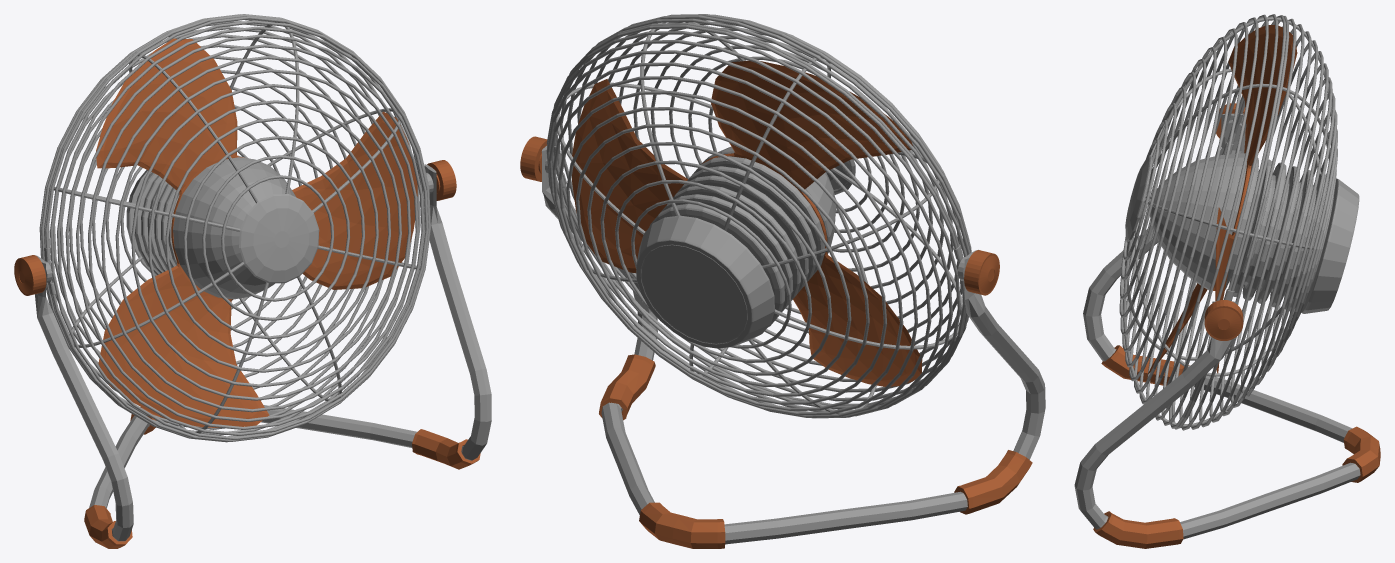
The model's file is riggedFan.obj.
3 renders of one model, left to right at view 1: azimuth 30°, elevation 25°; view 2: azimuth 150°, elevation 25°; view 3: azimuth 270°, elevation 25°, orthographic. The views are drawn at different scales.
Parts seen in each view (by area): view 1: 0grid2_Mesh.004, 0blades_Circle.002, 0stand1_Mesh.002, 0part2_Circle.001, 0part1_Mesh, 0grid1_Mesh.005, 0body_Circle.003, 0stand2_Mesh.001, 0adjuster_Cylinder; view 2: 0grid2_Mesh.004, 0blades_Circle.002, 0body_Circle.003, 0stand1_Mesh.002, 0stand2_Mesh.001, 0grid1_Mesh.005, 0adjuster_Cylinder, 0part2_Circle.001; view 3: 0grid2_Mesh.004, 0stand1_Mesh.002, 0body_Circle.003, 0part2_Circle.001, 0blades_Circle.002, 0stand2_Mesh.001, 0grid1_Mesh.005, 0adjuster_Cylinder, 0part1_Mesh.
Part boxes in pixels (x1,y1,x2,y2): 0grid2_Mesh.004: [39, 14, 430, 442]; 0blades_Circle.002: [96, 38, 417, 427]; 0stand1_Mesh.002: [34, 164, 491, 541]; 0part2_Circle.001: [173, 157, 295, 299]; 0part1_Mesh: [239, 194, 319, 283]; 0grid1_Mesh.005: [53, 21, 420, 435]; 0body_Circle.003: [126, 155, 248, 276]; 0stand2_Mesh.001: [84, 407, 480, 548]; 0adjuster_Cylinder: [14, 160, 456, 295]; 0grid2_Mesh.004: [546, 14, 971, 418]; 0blades_Circle.002: [572, 60, 922, 386]; 0body_Circle.003: [636, 156, 825, 348]; 0stand1_Mesh.002: [541, 146, 1045, 544]; 0stand2_Mesh.001: [599, 354, 1032, 548]; 0grid1_Mesh.005: [555, 22, 962, 414]; 0adjuster_Cylinder: [520, 136, 999, 295]; 0part2_Circle.001: [700, 146, 835, 253]; 0grid2_Mesh.004: [1119, 14, 1337, 430]; 0stand1_Mesh.002: [1074, 113, 1360, 539]; 0body_Circle.003: [1225, 158, 1359, 313]; 0part2_Circle.001: [1150, 153, 1246, 289]; 0blades_Circle.002: [1148, 25, 1297, 374]; 0stand2_Mesh.001: [1093, 345, 1380, 548]; 0grid1_Mesh.005: [1123, 17, 1334, 427]; 0adjuster_Cylinder: [1204, 103, 1245, 340]; 0part1_Mesh: [1125, 155, 1152, 242].
Size of the model in its own units: 32.69 by 32.17 by 20.65.
